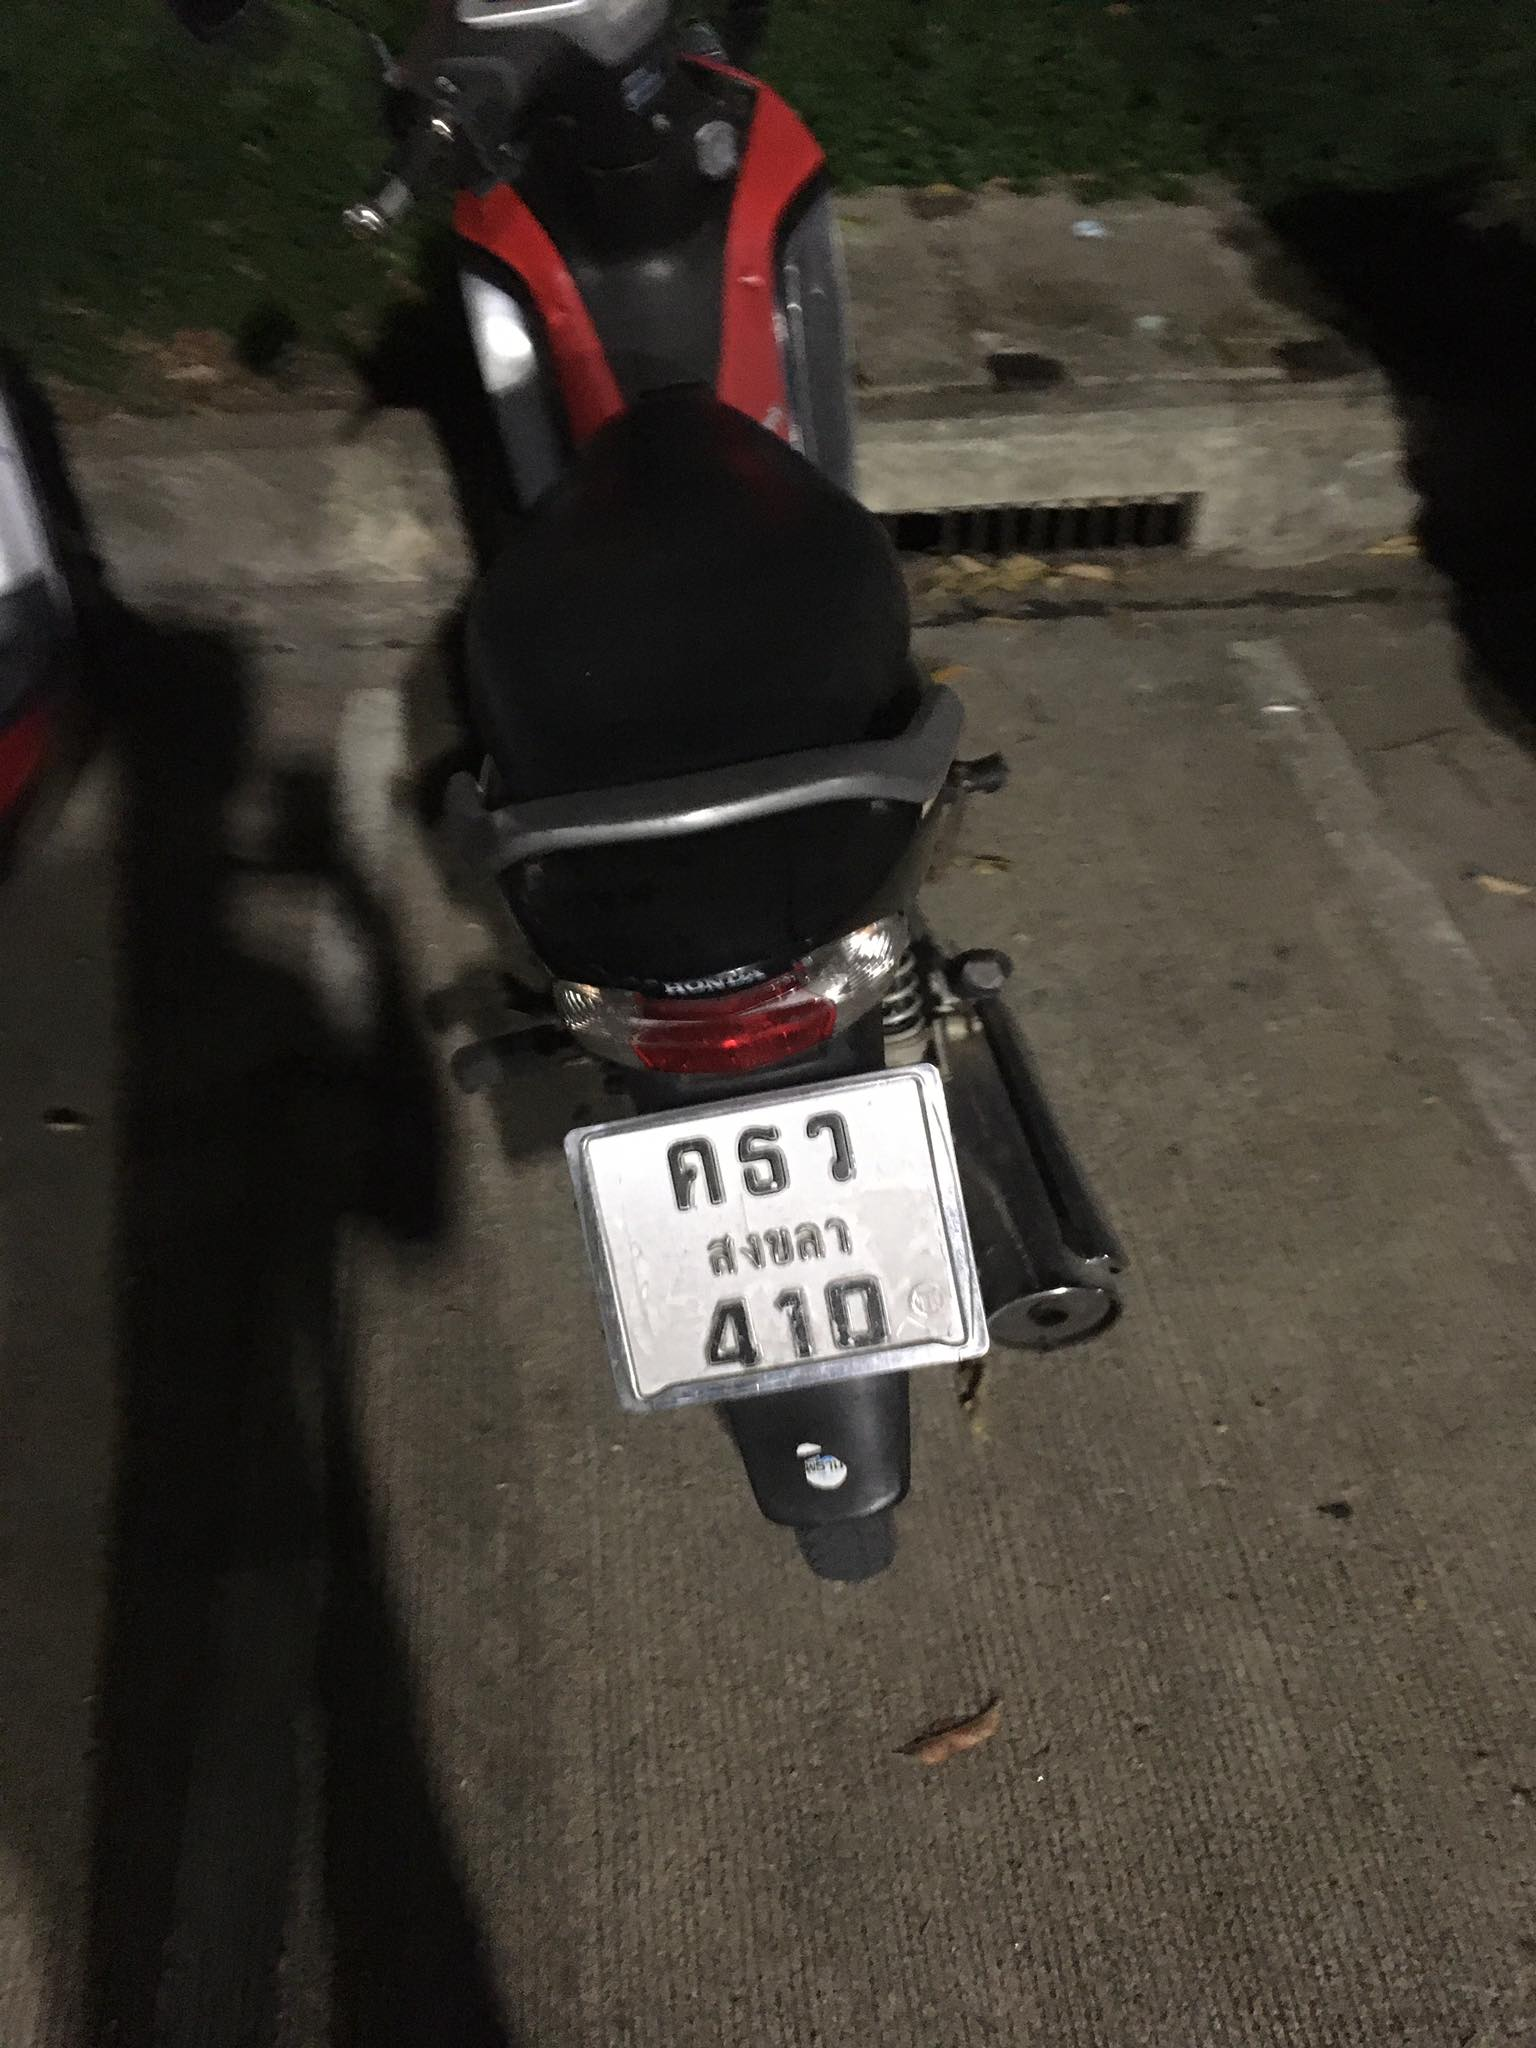line1: (653, 1095, 866, 1214)
line2: (703, 1208, 866, 1277)
line3: (694, 1277, 900, 1385)
